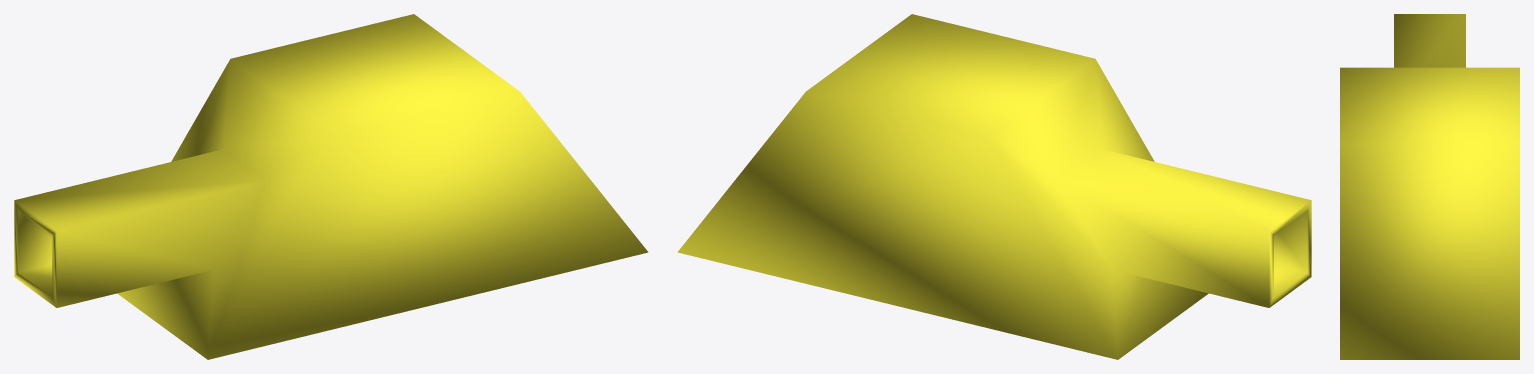
The model's file is tank.fbx.
3 views of the same model, side by side, from view 1: azimuth 30°, elevation 25°; view 2: azimuth 150°, elevation 25°; view 3: azimuth 270°, elevation 25° (orthographic). The views are drawn at different scales.
Parts seen in each view (by area): view 1: Tank; view 2: Tank; view 3: Tank.
Part boxes in pixels (x1,y1,x2,y2): Tank: (14, 14, 648, 359); Tank: (677, 14, 1311, 359); Tank: (1340, 14, 1519, 359).
Size of the model in its own units: 6.1 by 2 by 2.
